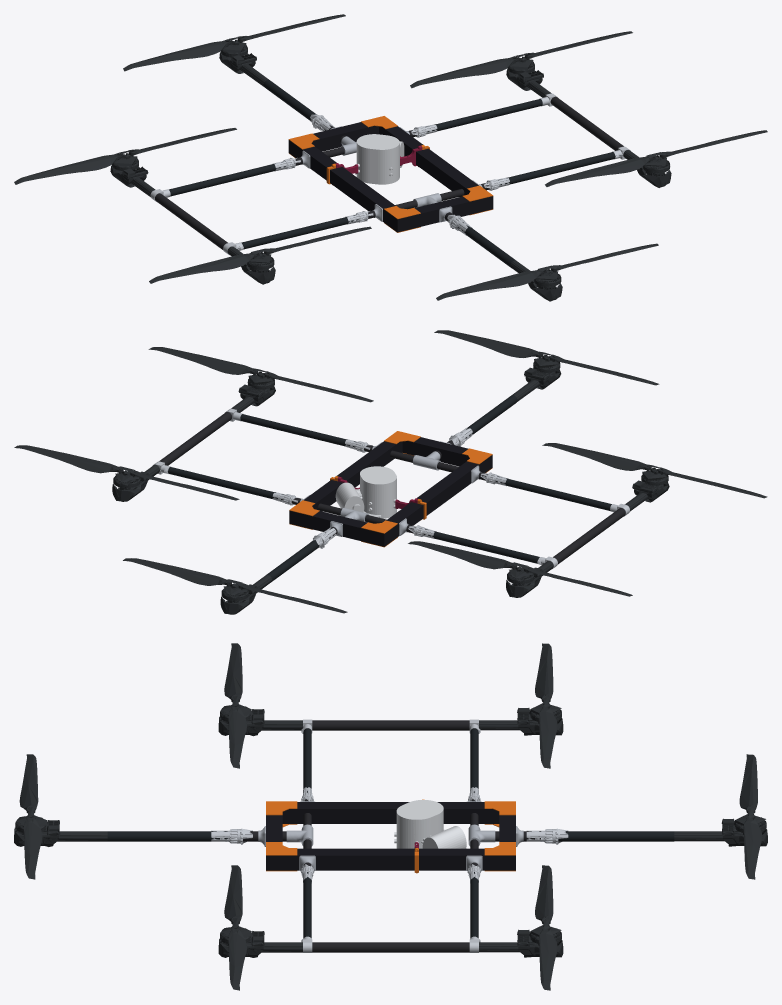
The model's file is goaero.glb.
3 views of the same model, one above another, from view 1: azimuth 30°, elevation 25°; view 2: azimuth 150°, elevation 25°; view 3: azimuth 270°, elevation 25° (orthographic). The views are drawn at different scales.
Visible parts, largest first — view 1: motor|T-Motor A14|4, motor|T-Motor A14|5, motor|T-Motor A14|3, motor|T-Motor A14|2, motor|T-Motor A14|1, motor|T-Motor A14|6, beam|Long Carbon Fiber Beam|3, core|RW300|1, beam|Long Carbon Fiber Beam|4, beam|Short Carbon Fiber Beam|2, beam|Short Carbon Fiber Beam|3, arm|Corner Motor Arm|2 (+7 smaller); view 2: motor|T-Motor A14|2, motor|T-Motor A14|6, motor|T-Motor A14|1, motor|T-Motor A14|4, motor|T-Motor A14|5, motor|T-Motor A14|3, core|RW300|1, beam|Long Carbon Fiber Beam|3, beam|Long Carbon Fiber Beam|4, beam|Short Carbon Fiber Beam|3, beam|Short Carbon Fiber Beam|2, arm|Corner Motor Arm|3 (+7 smaller); view 3: beam|Long Carbon Fiber Beam|4, beam|Long Carbon Fiber Beam|3, motor|T-Motor A14|4, motor|T-Motor A14|2, motor|T-Motor A14|3, motor|T-Motor A14|5, motor|T-Motor A14|1, motor|T-Motor A14|6, core|RW300|1, tube|Cross Tube|1, tube|Cross Tube|2, arm|Middle Motor Arm|3 (+1 smaller).
Part boxes in pixels (x1=…): motor|T-Motor A14|4: x1=123, y1=14, x2=345, y2=86; motor|T-Motor A14|5: x1=14, y1=128, x2=236, y2=196; motor|T-Motor A14|3: x1=410, y1=31, x2=632, y2=97; motor|T-Motor A14|2: x1=436, y1=243, x2=658, y2=301; motor|T-Motor A14|1: x1=545, y1=130, x2=767, y2=187; motor|T-Motor A14|6: x1=149, y1=226, x2=371, y2=284; beam|Long Carbon Fiber Beam|3: x1=288, y1=140, x2=397, y2=232; core|RW300|1: x1=355, y1=134, x2=404, y2=184; beam|Long Carbon Fiber Beam|4: x1=379, y1=126, x2=478, y2=196; beam|Short Carbon Fiber Beam|2: x1=397, y1=196, x2=493, y2=232; beam|Short Carbon Fiber Beam|3: x1=311, y1=122, x2=378, y2=151; arm|Corner Motor Arm|2: x1=498, y1=152, x2=621, y2=185; motor|T-Motor A14|2: x1=434, y1=330, x2=659, y2=401; motor|T-Motor A14|6: x1=542, y1=443, x2=767, y2=511; motor|T-Motor A14|1: x1=148, y1=347, x2=373, y2=412; motor|T-Motor A14|4: x1=123, y1=558, x2=347, y2=614; motor|T-Motor A14|5: x1=408, y1=541, x2=632, y2=597; motor|T-Motor A14|3: x1=14, y1=445, x2=239, y2=501; core|RW300|1: x1=335, y1=466, x2=396, y2=522; beam|Long Carbon Fiber Beam|3: x1=384, y1=455, x2=492, y2=546; beam|Long Carbon Fiber Beam|4: x1=304, y1=441, x2=402, y2=511; beam|Short Carbon Fiber Beam|3: x1=289, y1=510, x2=384, y2=546; beam|Short Carbon Fiber Beam|2: x1=402, y1=437, x2=469, y2=466; arm|Corner Motor Arm|3: x1=161, y1=467, x2=284, y2=499; beam|Long Carbon Fiber Beam|4: x1=266, y1=848, x2=515, y2=870; beam|Long Carbon Fiber Beam|3: x1=282, y1=802, x2=499, y2=823; motor|T-Motor A14|4: x1=674, y1=754, x2=767, y2=879; motor|T-Motor A14|2: x1=14, y1=754, x2=107, y2=879; motor|T-Motor A14|3: x1=479, y1=865, x2=563, y2=990; motor|T-Motor A14|5: x1=479, y1=643, x2=563, y2=768; motor|T-Motor A14|1: x1=218, y1=865, x2=302, y2=990; motor|T-Motor A14|6: x1=218, y1=643, x2=302, y2=768; core|RW300|1: x1=394, y1=800, x2=466, y2=848; tube|Cross Tube|1: x1=312, y1=942, x2=469, y2=952; tube|Cross Tube|2: x1=312, y1=720, x2=469, y2=730; arm|Middle Motor Arm|3: x1=558, y1=831, x2=674, y2=841.
Size of the model in its own units: 3.94 by 0.2615 by 3.62.
